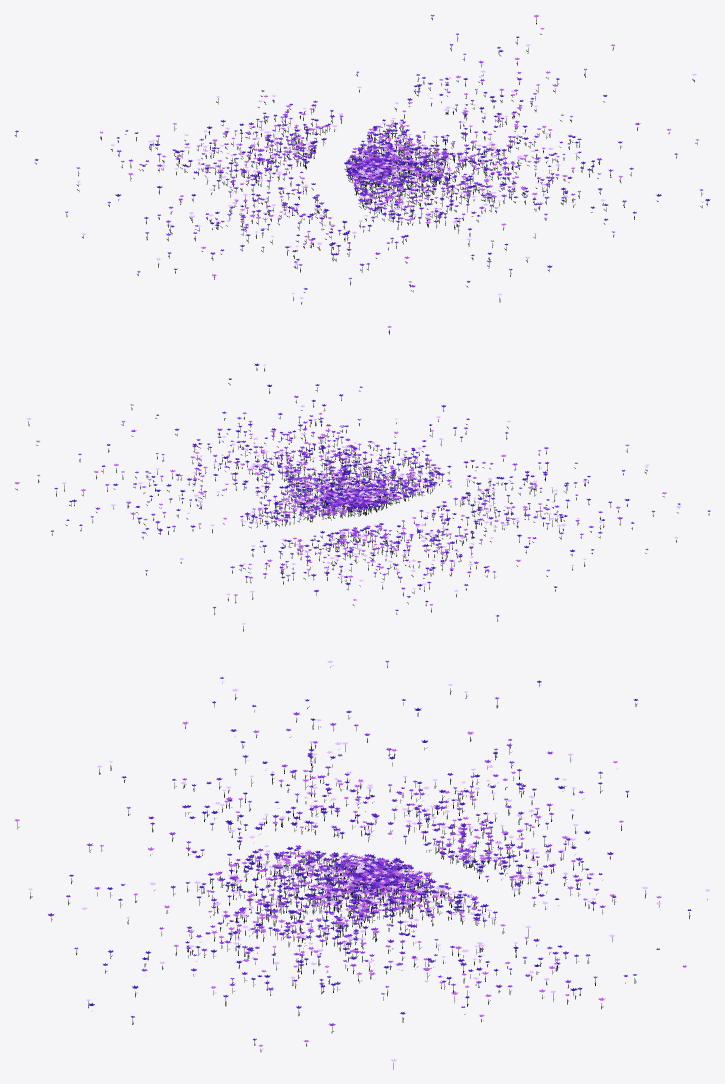
The model's file is flowers_a.glb.
3 views of the same model, one above another, from view 1: azimuth 30°, elevation 25°; view 2: azimuth 150°, elevation 25°; view 3: azimuth 270°, elevation 25° (orthographic). The views are drawn at different scales.
Visible parts, largest first — view 1: main; view 2: main; view 3: main.
Part boxes in pixels (left/top/right/bottom): main: left=14, top=14, right=710, bottom=334; main: left=14, top=363, right=710, bottom=631; main: left=14, top=660, right=710, bottom=1069.
Size of the model in its own units: 91.84 by 7.87 by 70.56.
1 material, 1 textured.
